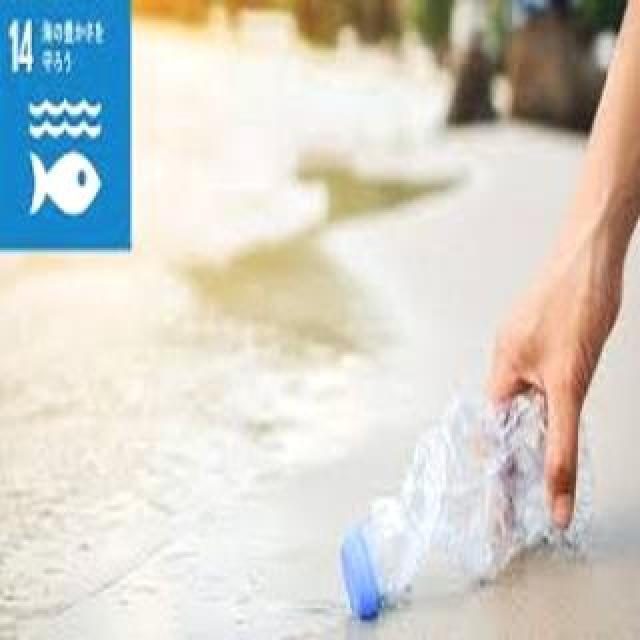Pet_Bottle: (337, 391, 539, 625)
